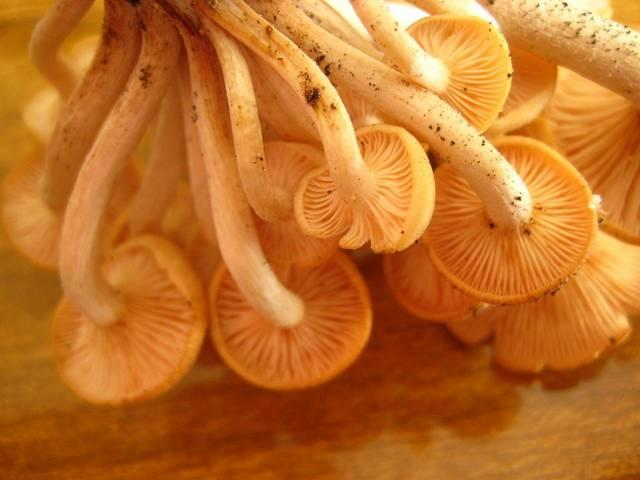Edible Mushroom: (2, 0, 638, 404)
